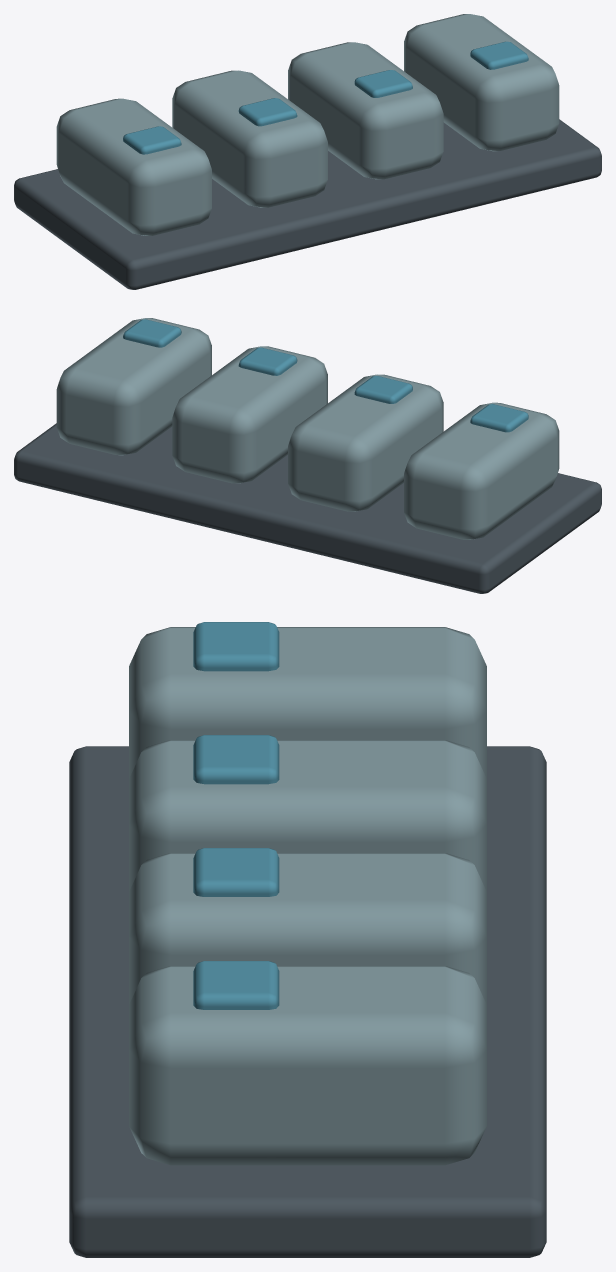
File: drone-rack.glb
The picture shows the model from 3 angles, top to bottom: view 1: azimuth 30°, elevation 25°; view 2: azimuth 150°, elevation 25°; view 3: azimuth 270°, elevation 25°; orthographic projection. The views are drawn at different scales.
Visible parts, largest first — view 1: drone-rack; view 2: drone-rack; view 3: drone-rack.
Boxes of the visible parts, x1=… form: drone-rack: x1=14, y1=14, x2=601, y2=289; drone-rack: x1=14, y1=318, x2=601, y2=593; drone-rack: x1=69, y1=622, x2=546, y2=1257.
Size of the model in its own units: 2.3 by 0.52 by 0.9999.
